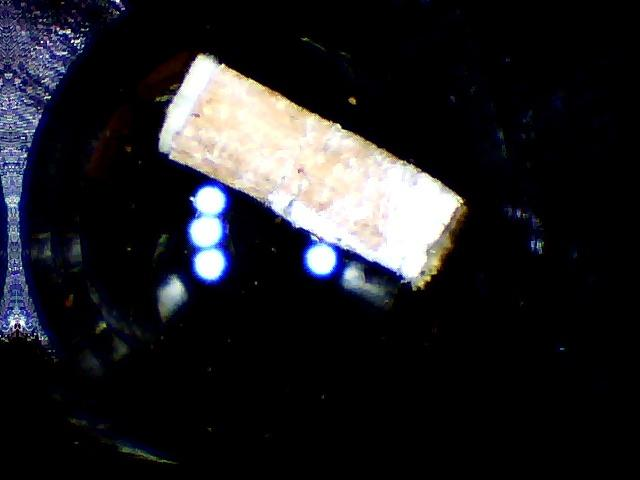megot: (141, 36, 474, 306)
